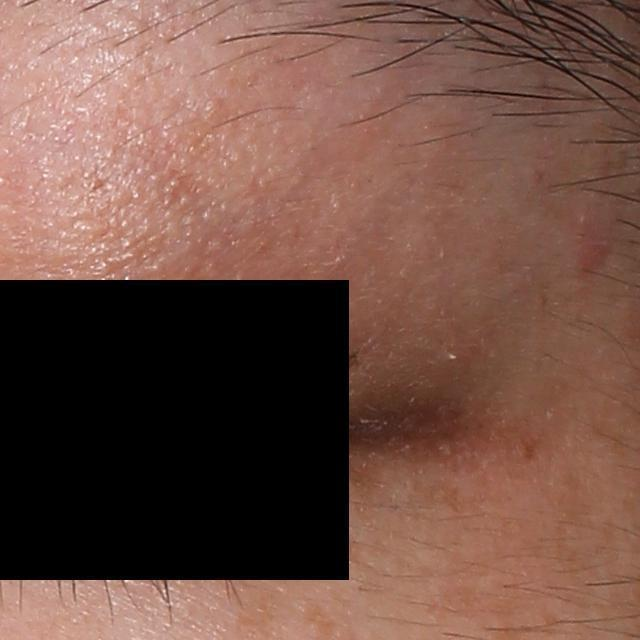melasma: (541, 460, 599, 586), (397, 475, 486, 519)
papule: (575, 228, 610, 272)
